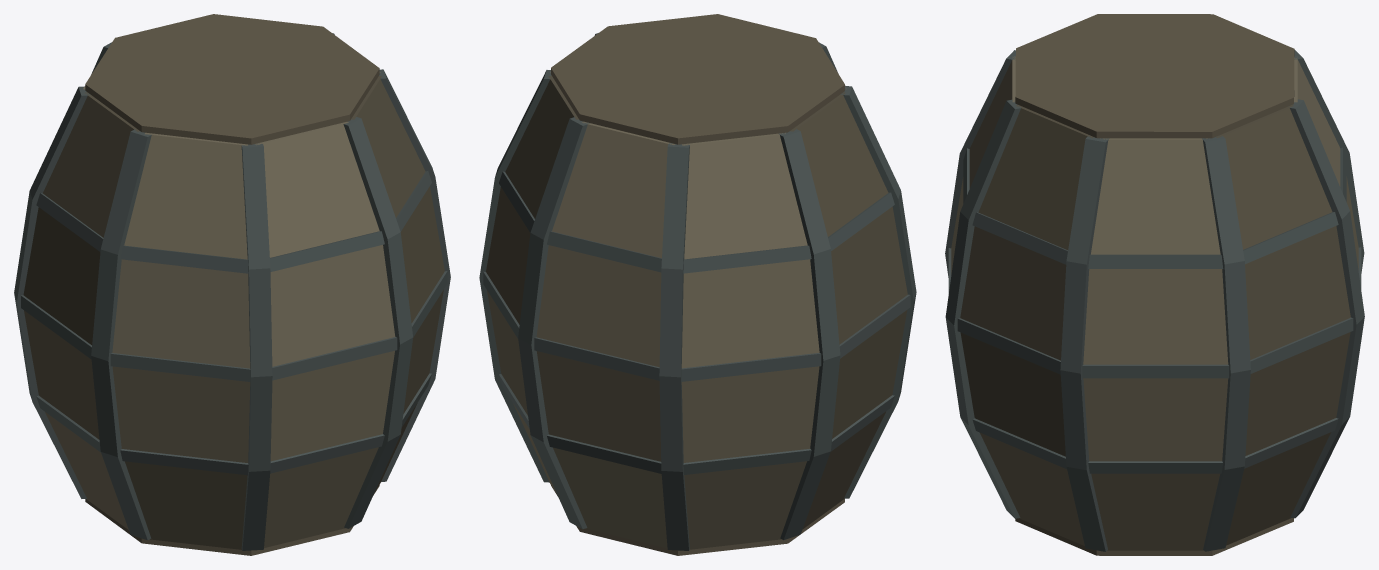
The model's file is Barrel_1.fbx.
3 views of the same model, side by side, from view 1: azimuth 30°, elevation 25°; view 2: azimuth 150°, elevation 25°; view 3: azimuth 270°, elevation 25° (orthographic).
Visible parts, largest first — view 1: Barrel_1; view 2: Barrel_1; view 3: Barrel_1.
Boxes of the visible parts, bbox=[...] form: Barrel_1: bbox=[14, 14, 450, 555]; Barrel_1: bbox=[479, 14, 916, 555]; Barrel_1: bbox=[945, 14, 1364, 555].
Size of the model in its own units: 57.58 by 64.18 by 57.58.
1 material, 1 textured.
